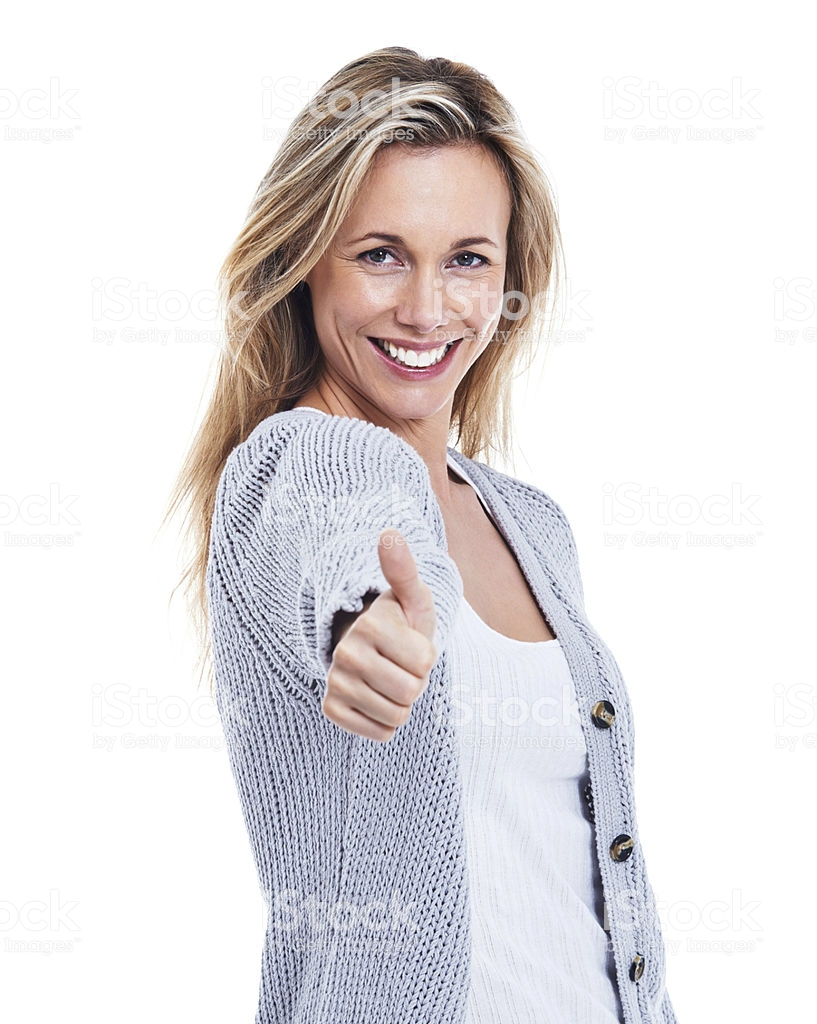thumbsup: (319, 528, 439, 744)
